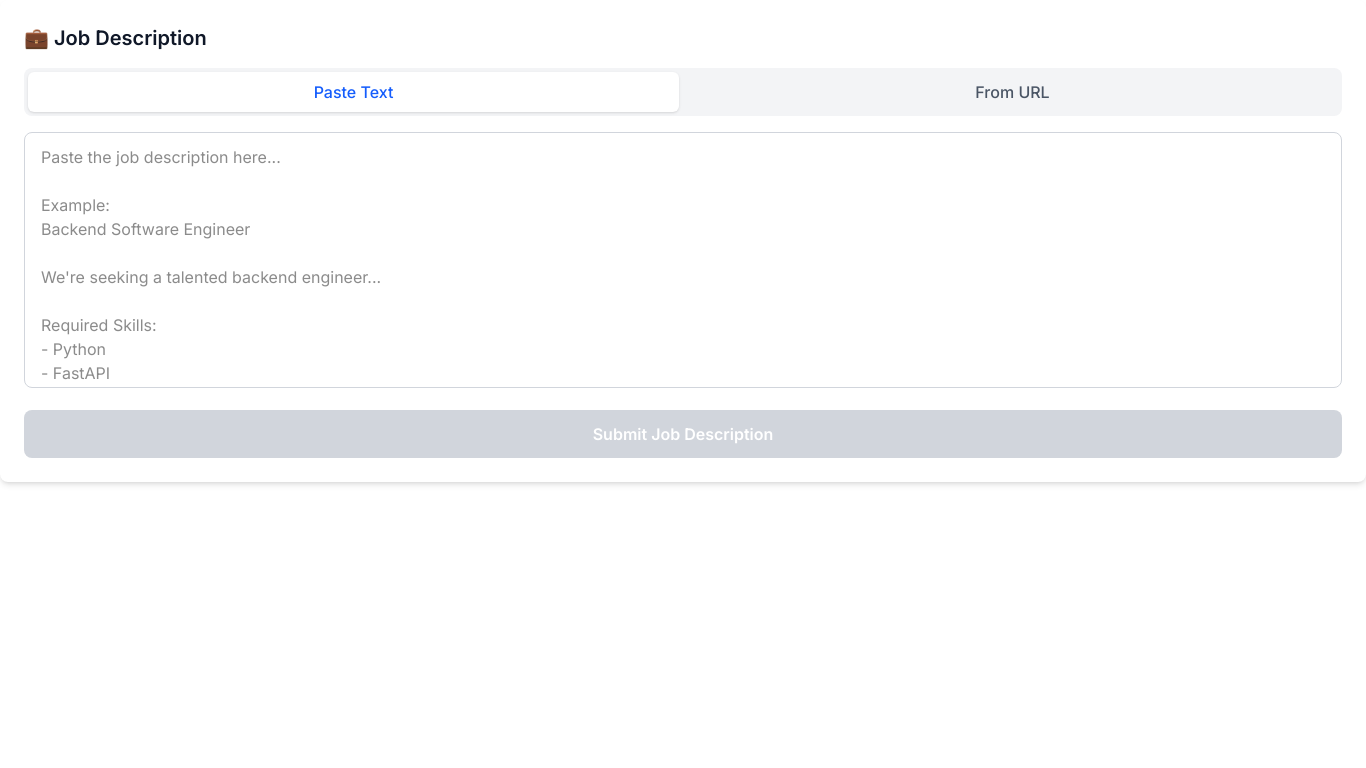
Scenario: JobDescriptionInput › shows the server error detail when submission fails
The image size is (1366, 768).
Step 1. Type "Backend engineer. Required: Python, FastAPI, PostgreSQL, Docker, and AWS." into the text box → {"x": 683, "y": 260}, box [24,132,1342,388]
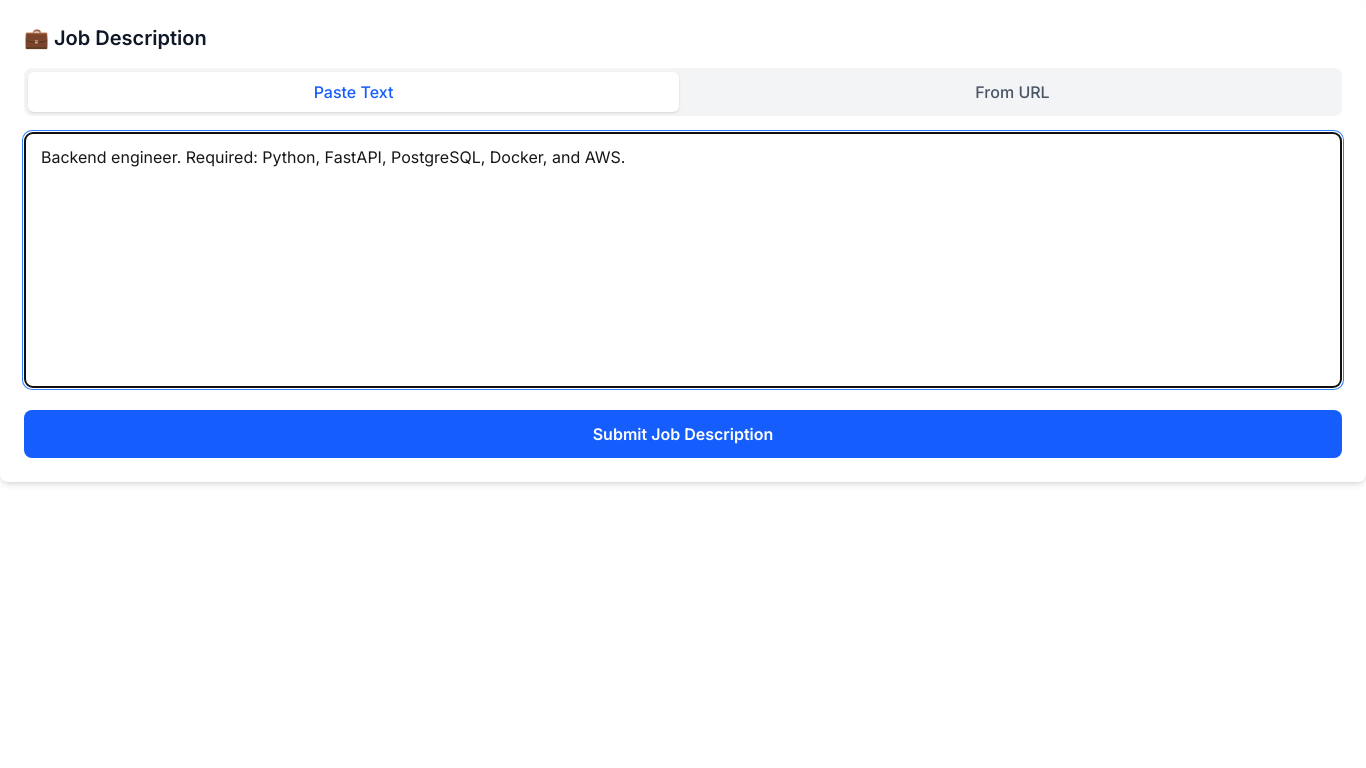
Step 2. Click the button "Submit Job Description" → {"x": 683, "y": 434}, box [24,410,1342,458]
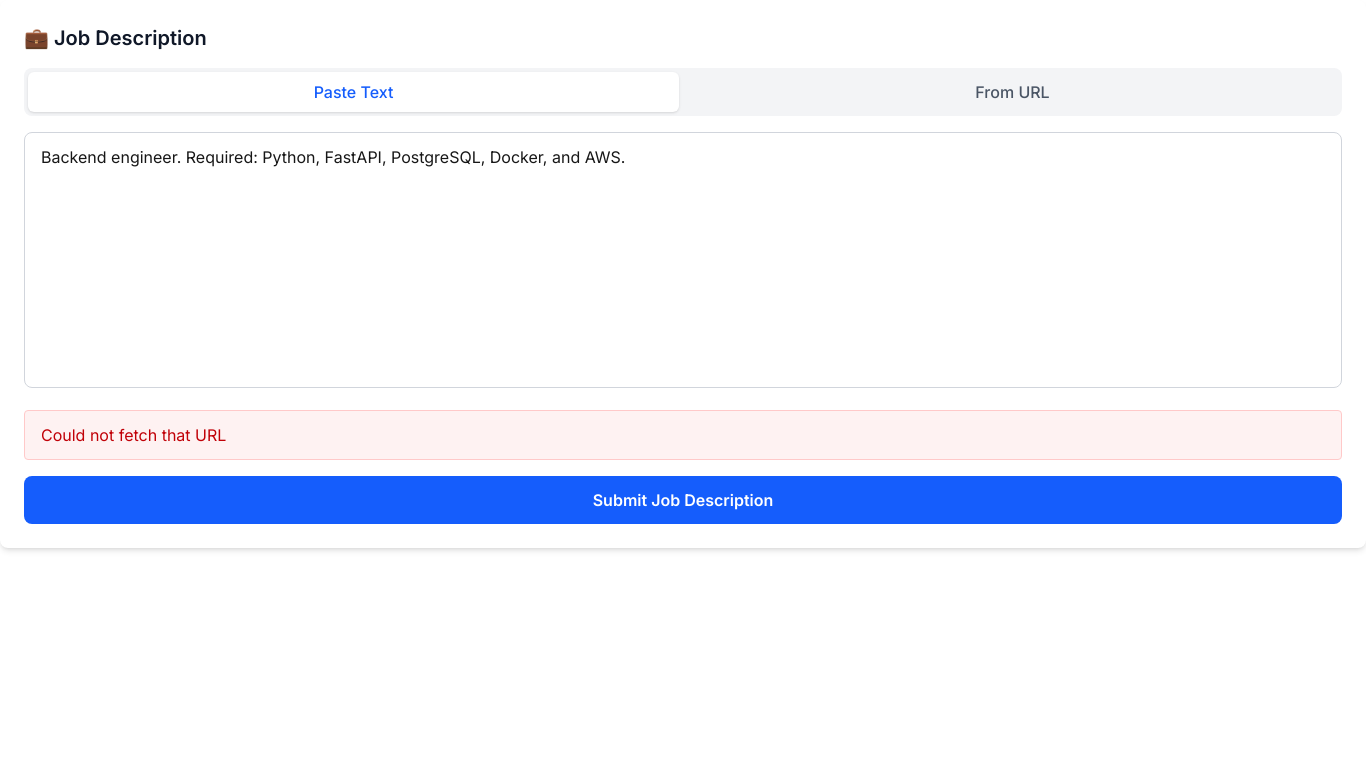
Now the button "Submit Job Description" is enabled, box [24,476,1342,524]
Now the text "Could not fetch that URL" is shown, box [24,410,1342,460]
